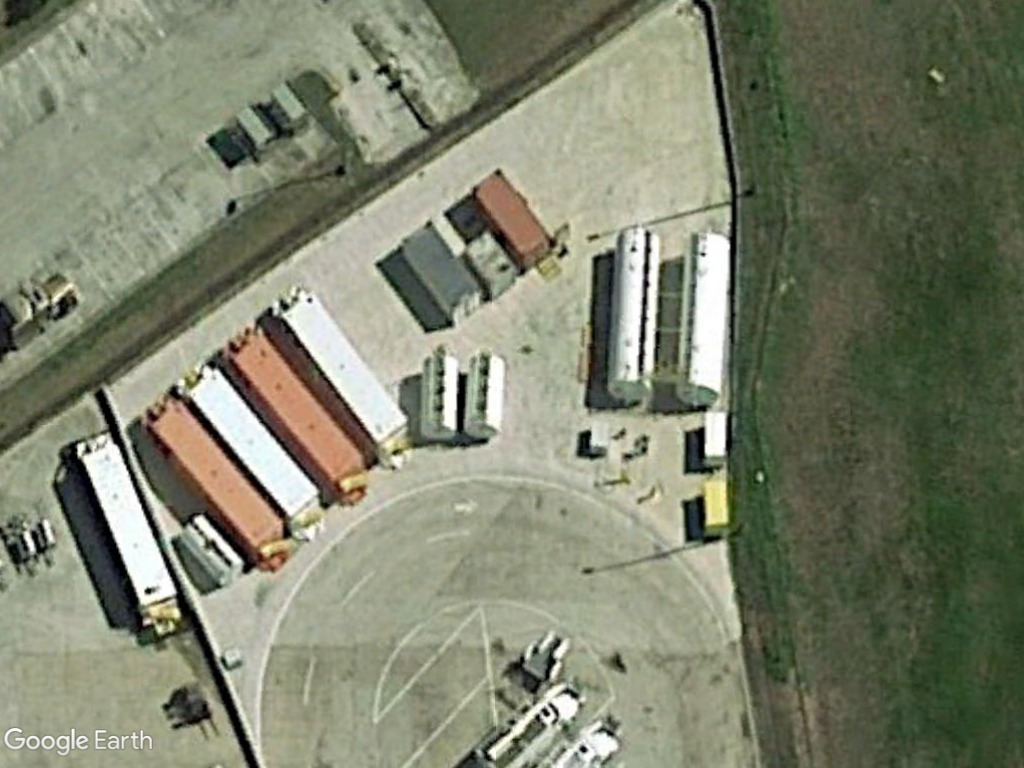longvehicle: (142, 391, 296, 565), (228, 326, 373, 496), (183, 367, 321, 527), (279, 294, 413, 453), (71, 444, 176, 612)
